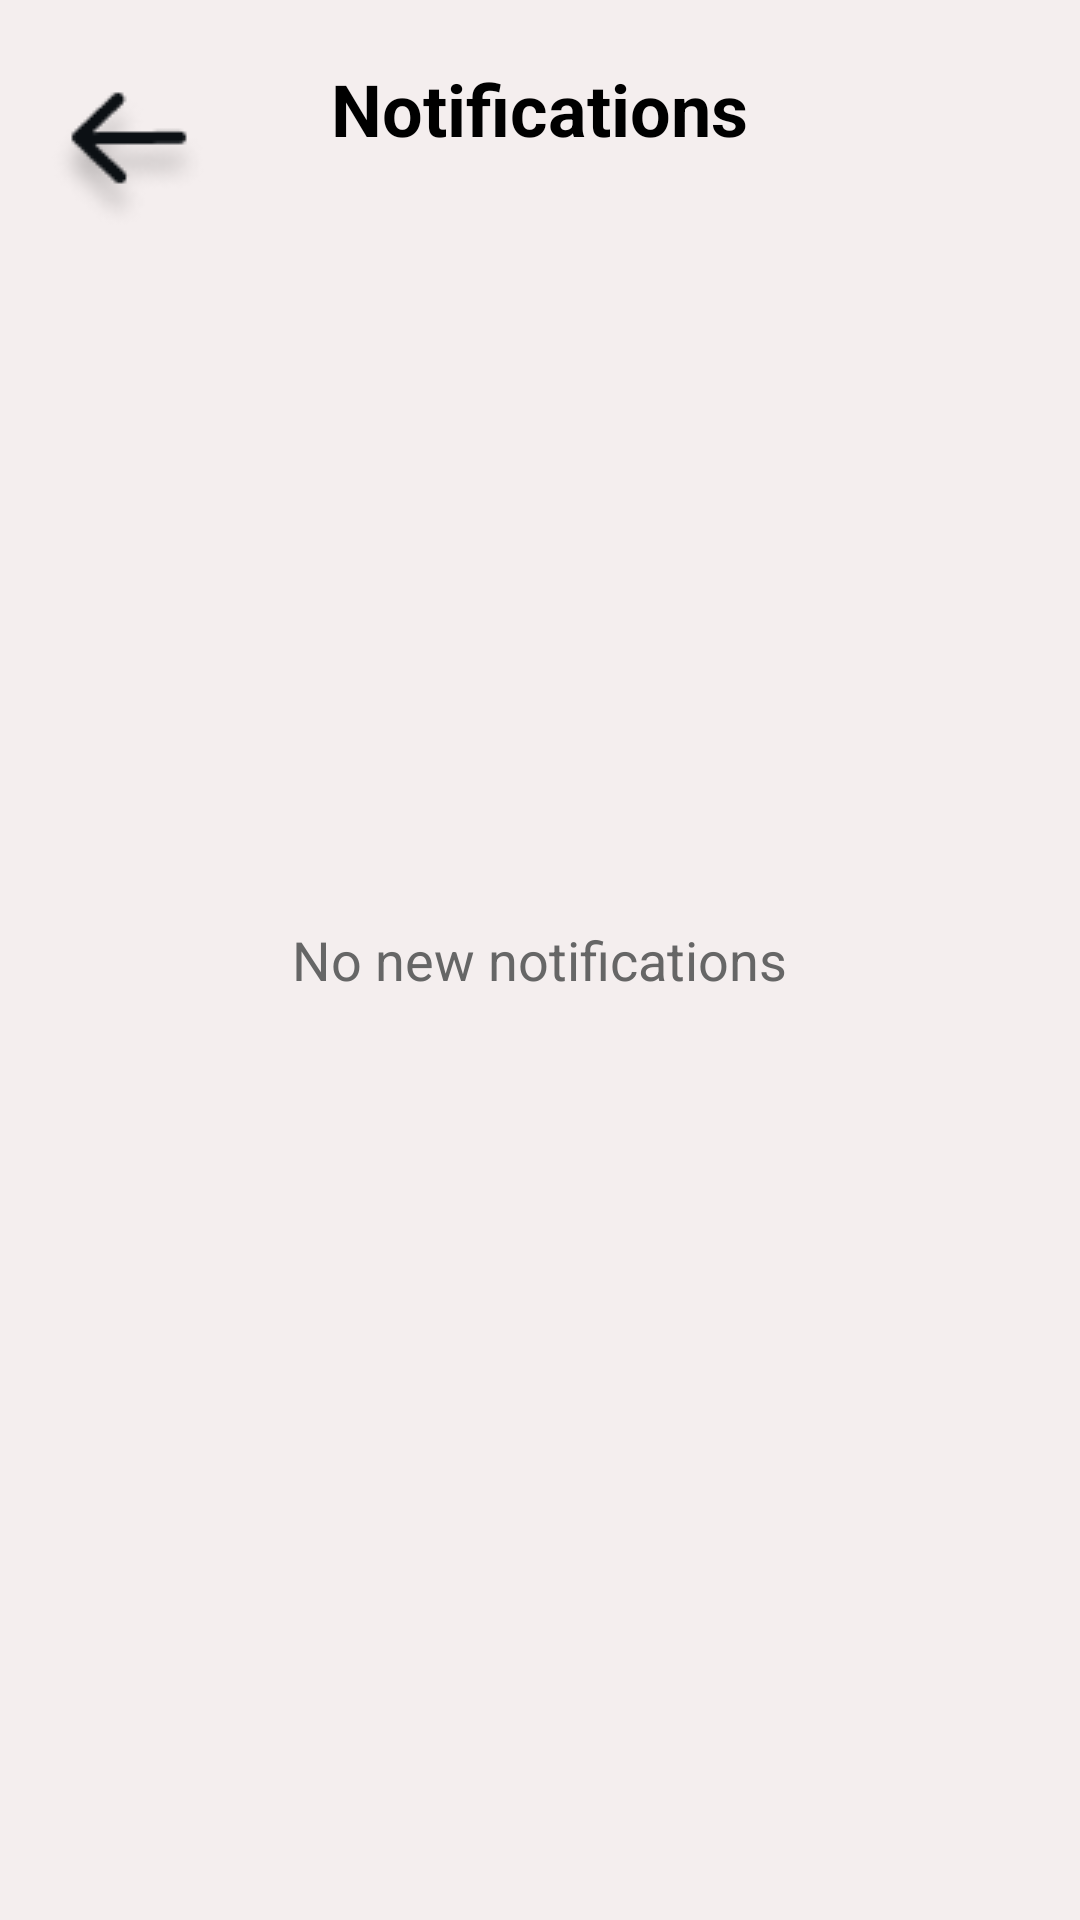

Locate icon controls on the screen. Image size 1080*1920, boxes as BBox(x1, y1, x2, y2).
back: BBox(71, 92, 187, 195)
